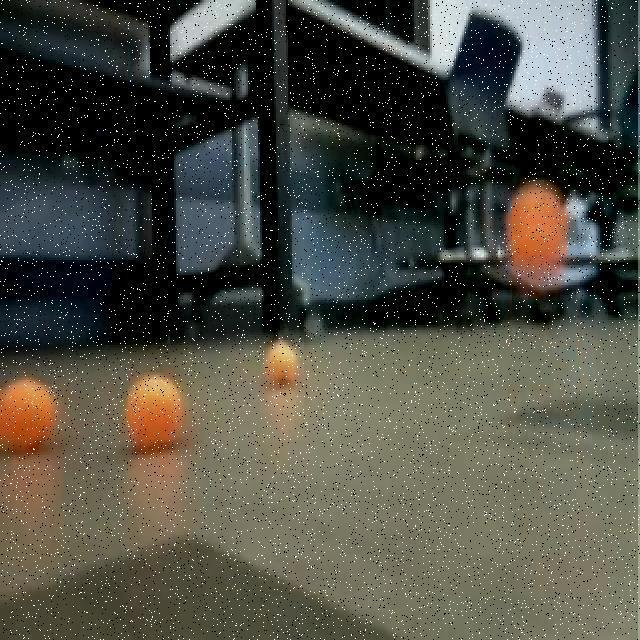ping-pong-ball: (119, 366, 187, 454), (502, 184, 568, 272), (0, 371, 57, 449), (260, 337, 302, 386)
